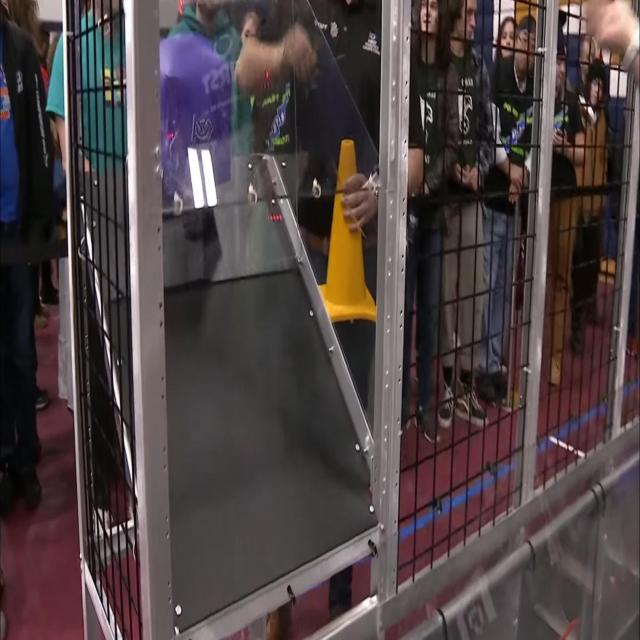frc_cone: (313, 135, 380, 321)
frc_cube: (153, 29, 234, 203)
